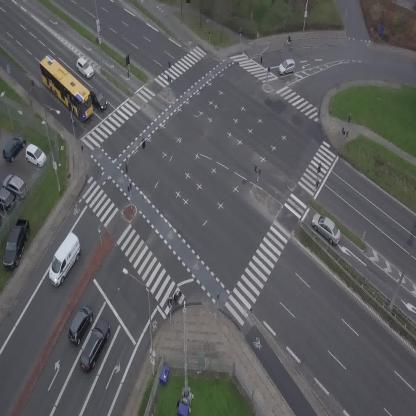bicycle: (169, 289, 183, 305), (29, 79, 36, 93), (284, 34, 293, 44)
bus: (31, 52, 102, 123)
car: (75, 316, 116, 374), (63, 302, 97, 347), (307, 210, 347, 247), (86, 86, 110, 113), (72, 56, 96, 80), (276, 57, 298, 76)
lorry: (40, 231, 90, 289)
